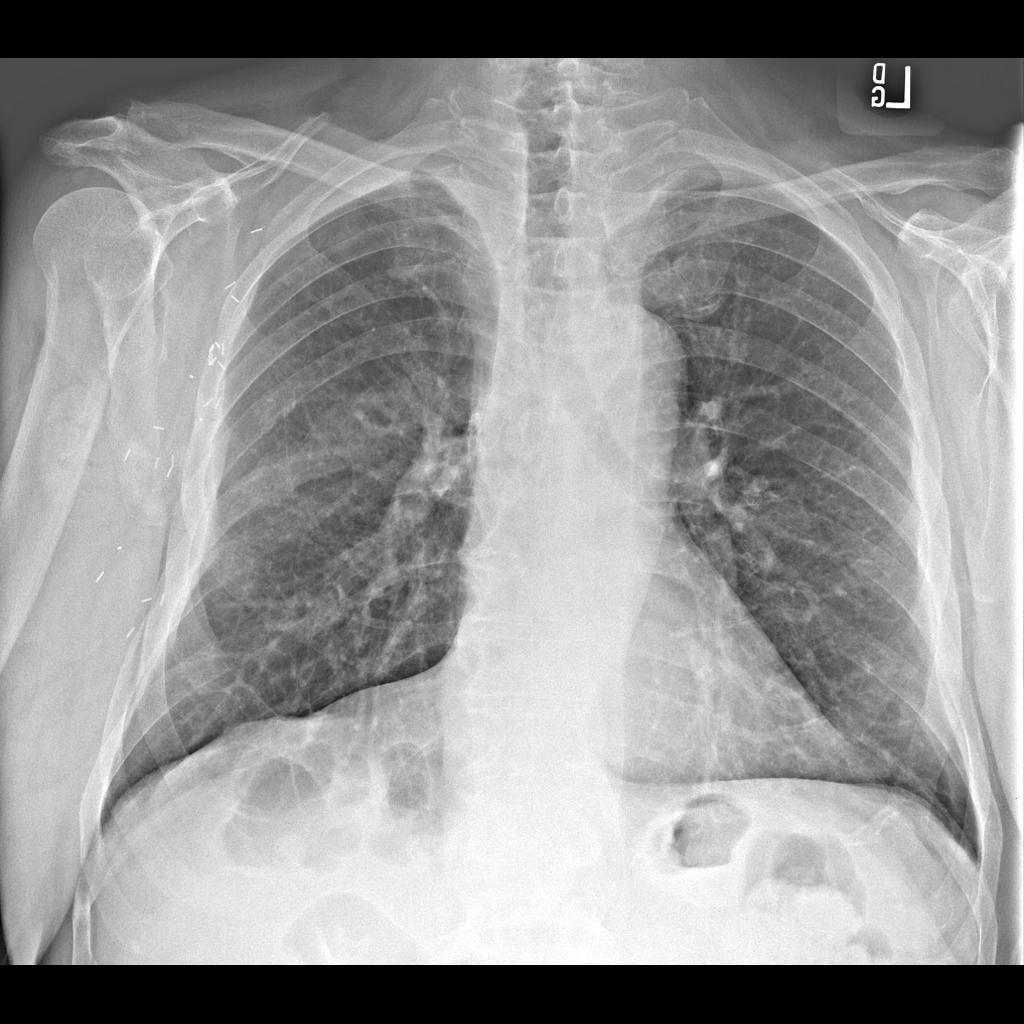Nodule: (323, 411, 406, 470)
